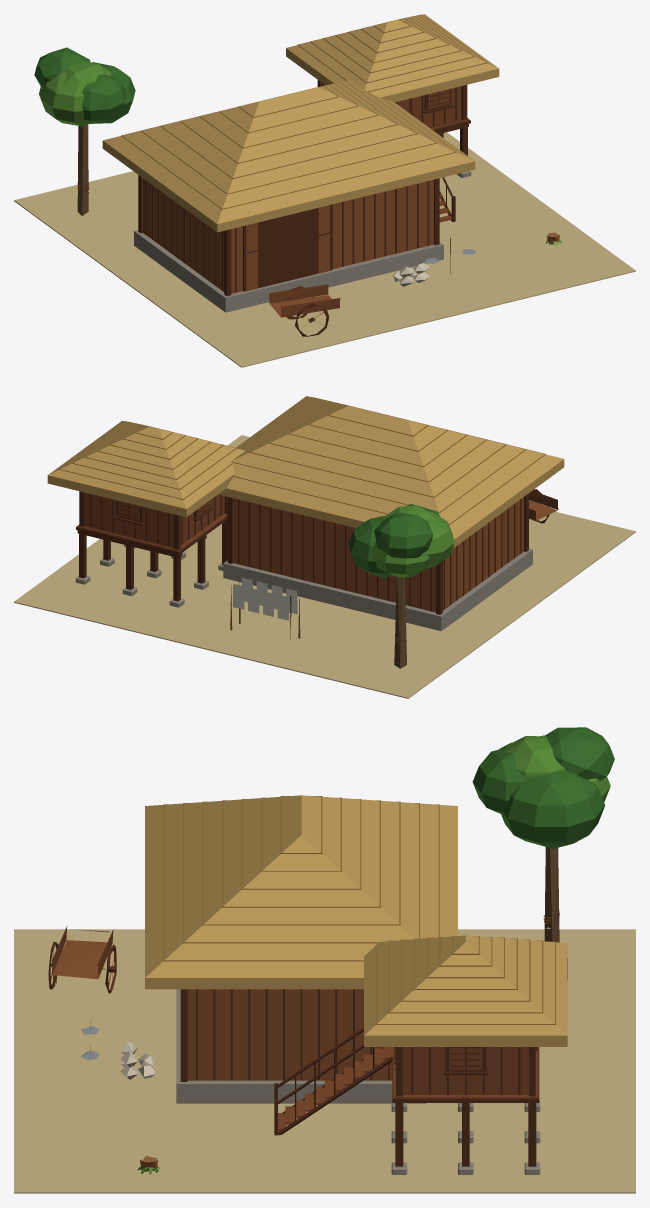
The model's file is shop_4.glb.
The picture shows the model from 3 angles, top to bottom: view 1: azimuth 30°, elevation 25°; view 2: azimuth 150°, elevation 25°; view 3: azimuth 270°, elevation 25°; orthographic projection. The views are drawn at different scales.
Parts seen in each view (by area): view 1: body; view 2: body; view 3: body.
Part boxes in pixels (x1,y1,x2,y2): body: (14, 14, 635, 367); body: (14, 396, 635, 698); body: (14, 727, 635, 1193).
Size of the model in its own units: 16.06 by 6.45 by 15.9.
